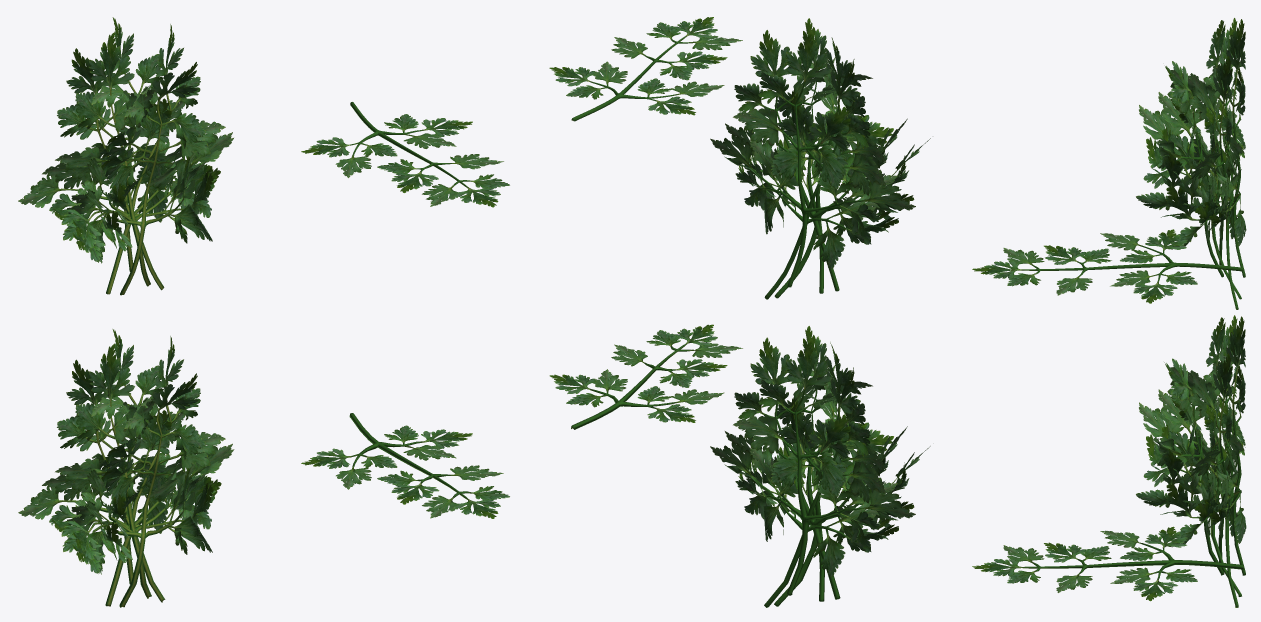
Rendered from Parsley.obj.
3 views of the same model, side by side, from view 1: azimuth 30°, elevation 25°; view 2: azimuth 150°, elevation 25°; view 3: azimuth 270°, elevation 25° (orthographic). The views are drawn at different scales.
Parts seen in each view (by area): view 1: Parsley_05, Parsley_10, Parsley_02, Parsley_12, Parsley_06, Parsley_11, Parsley_04, Parsley_09, Parsley_07, Parsley_01, Parsley_03, Parsley_08; view 2: Parsley_01, Parsley_07, Parsley_03, Parsley_08, Parsley_02, Parsley_12, Parsley_04, Parsley_09, Parsley_05, Parsley_10, Parsley_06, Parsley_11; view 3: Parsley_02, Parsley_12, Parsley_09, Parsley_04, Parsley_06, Parsley_11, Parsley_01, Parsley_07, Parsley_05, Parsley_03, Parsley_10, Parsley_08.
Boxes of the visible parts, x1,y1,x2,y2 form: Parsley_05: (55, 344, 232, 598); Parsley_10: (55, 32, 232, 286); Parsley_02: (301, 413, 509, 518); Parsley_12: (301, 102, 509, 207); Parsley_06: (85, 373, 205, 607); Parsley_11: (85, 62, 205, 295); Parsley_04: (87, 336, 225, 606); Parsley_09: (87, 24, 225, 294); Parsley_07: (18, 17, 217, 272); Parsley_01: (18, 329, 217, 584); Parsley_03: (42, 359, 234, 602); Parsley_08: (42, 48, 233, 290); Parsley_01: (733, 341, 915, 595); Parsley_07: (733, 33, 915, 287); Parsley_03: (710, 367, 898, 607); Parsley_08: (710, 59, 898, 299); Parsley_02: (549, 324, 742, 429); Parsley_12: (549, 17, 742, 121); Parsley_04: (734, 337, 907, 599); Parsley_09: (734, 30, 907, 291); Parsley_05: (725, 342, 914, 606); Parsley_10: (725, 37, 914, 298); Parsley_06: (774, 326, 930, 601); Parsley_11: (773, 18, 930, 293); Parsley_02: (972, 526, 1243, 601); Parsley_12: (972, 229, 1243, 303); Parsley_09: (1157, 56, 1232, 265); Parsley_04: (1157, 353, 1232, 562); Parsley_06: (1136, 358, 1224, 575); Parsley_11: (1136, 61, 1223, 277); Parsley_01: (1195, 316, 1246, 575); Parsley_07: (1195, 19, 1246, 277); Parsley_05: (1178, 317, 1241, 596); Parsley_03: (1188, 315, 1238, 607); Parsley_10: (1177, 20, 1241, 299); Parsley_08: (1188, 18, 1238, 309).
Size of the model in its own units: 254 by 344 by 153.
